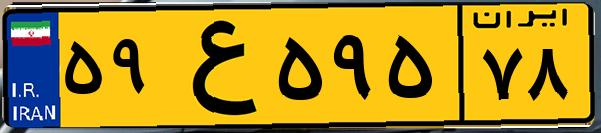5: (270, 28, 330, 110), (385, 28, 445, 110), (57, 26, 110, 100)
7: (475, 38, 525, 113)
8: (525, 38, 570, 115)
9: (330, 28, 385, 110), (110, 28, 158, 98)
ع: (158, 12, 270, 120)
